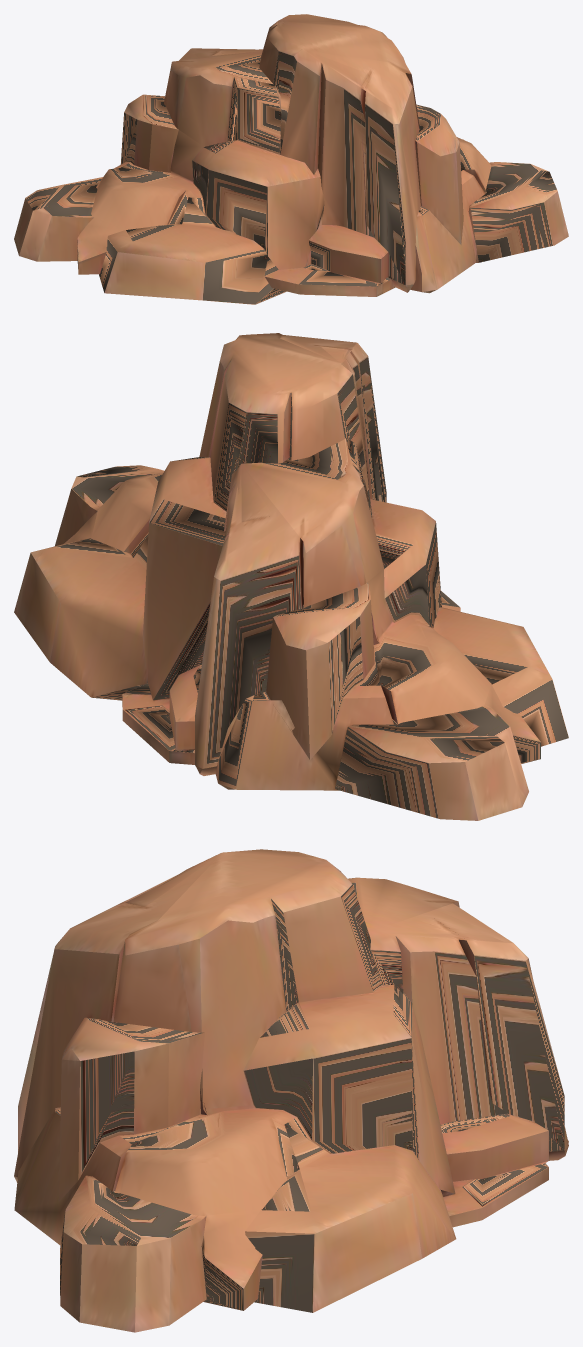
Rendered from desert-rock-09.glb.
The picture shows the model from 3 angles, top to bottom: view 1: azimuth 30°, elevation 25°; view 2: azimuth 150°, elevation 25°; view 3: azimuth 270°, elevation 25°; orthographic projection. The views are drawn at different scales.
Visible parts, largest first — view 1: Rock_6; view 2: Rock_6; view 3: Rock_6.
Part boxes in pixels (box(x1,y1,x2,y2)): Rock_6: box(14, 14, 568, 304); Rock_6: box(14, 333, 568, 820); Rock_6: box(14, 849, 568, 1332).
Size of the model in its own units: 4.04 by 1.9 by 2.95.
Materials: 1 (1 with a texture image).
